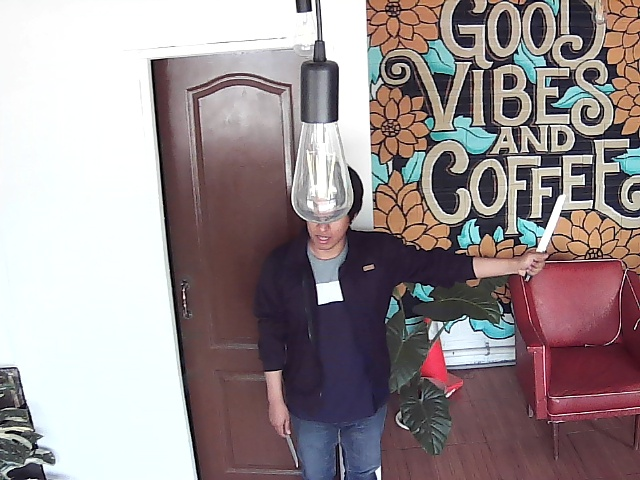cuchillo: (518, 189, 566, 288)
